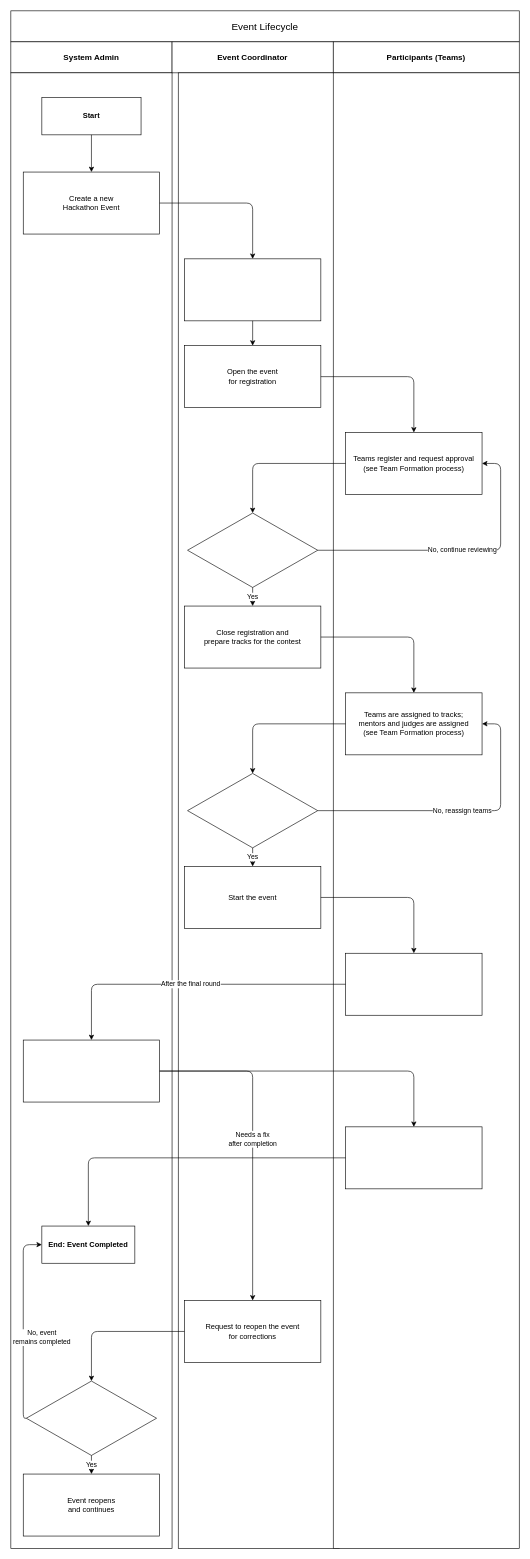
Image size: 530x1559. Some labels were removed from this diagram. Each missing label, with the box of its shape:
Approve the reopen request?: (26, 1380, 157, 1455)
Contest rounds run: teams submit and are judged (see Round process): (345, 953, 482, 1015)
Does every track have at least one team?: (187, 773, 318, 848)
Have all teams been reviewed?: (187, 512, 318, 587)
Mark the event as complete: (23, 1039, 160, 1102)
Prizes are generated and announced (see Prizes process): (345, 1126, 482, 1189)
Set up Tracks and problem statements: (184, 258, 321, 321)
